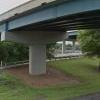Bridge: (4, 2, 94, 61)
